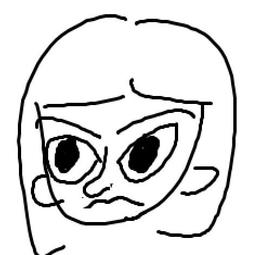ear: (176, 159, 219, 200), (28, 171, 52, 211)
eye: (116, 120, 181, 186), (45, 133, 100, 186)
frowning_eyebrow: (118, 107, 195, 133), (31, 114, 101, 138)
line_unsmiling_mouth: (80, 196, 144, 210)
nose: (82, 145, 113, 199)
